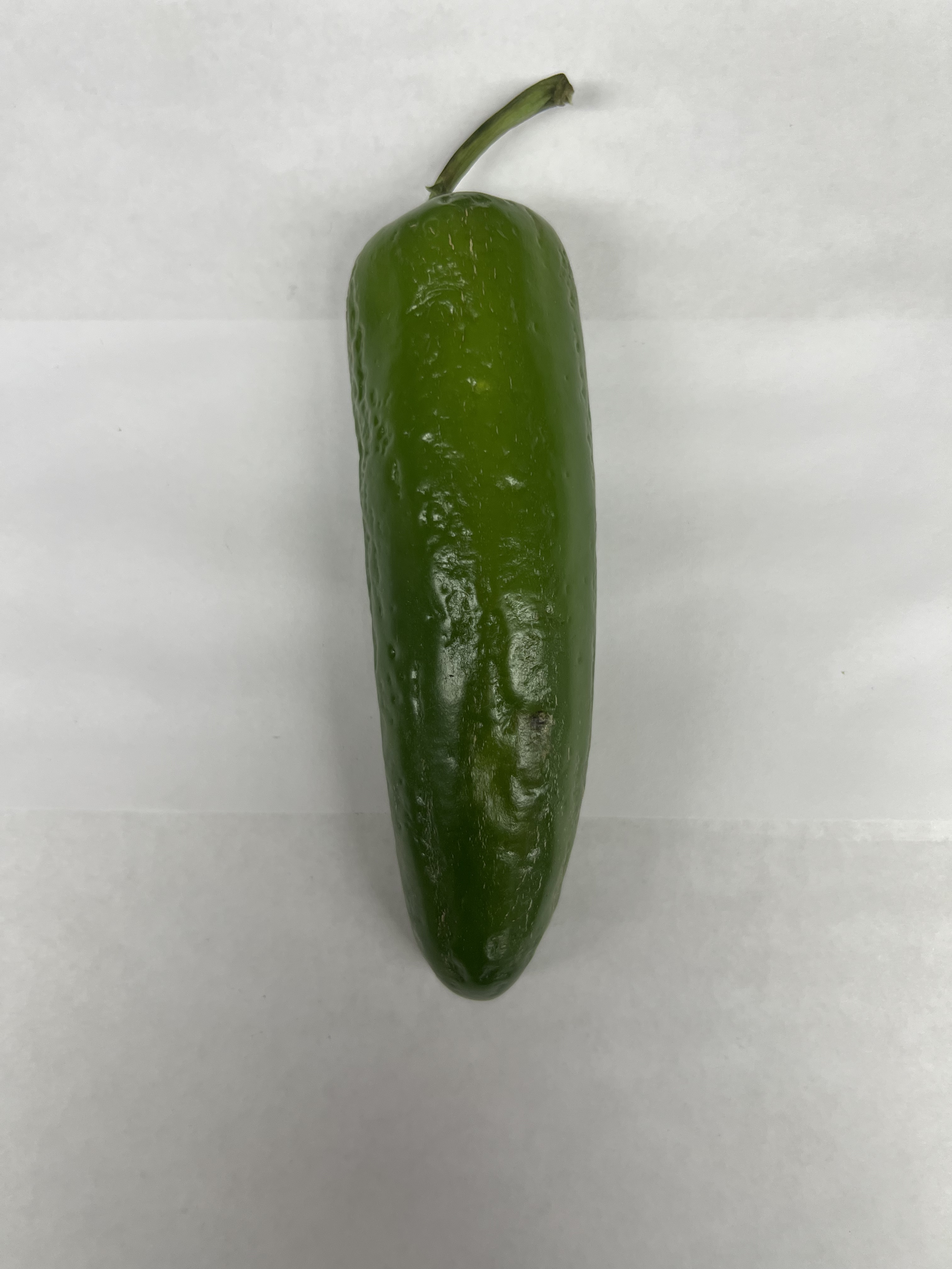produce: (339, 68, 606, 1003)
